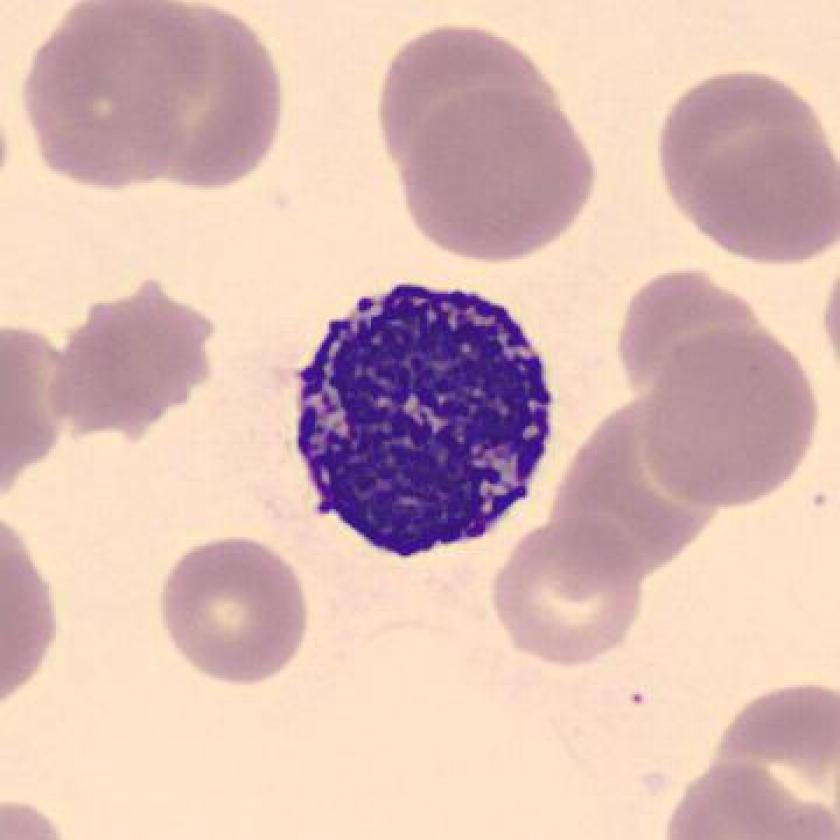basophil: (281, 274, 566, 566)
